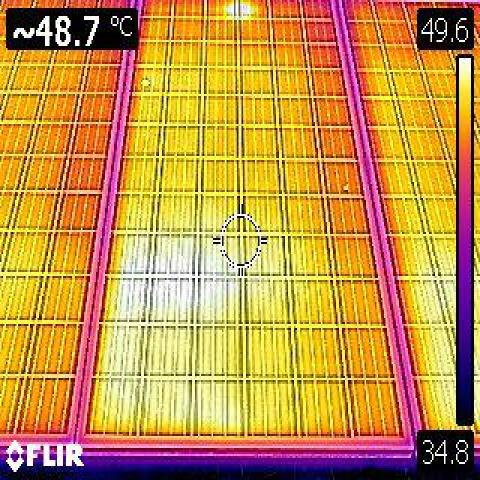fault: (106, 233, 196, 318), (229, 1, 252, 16)
